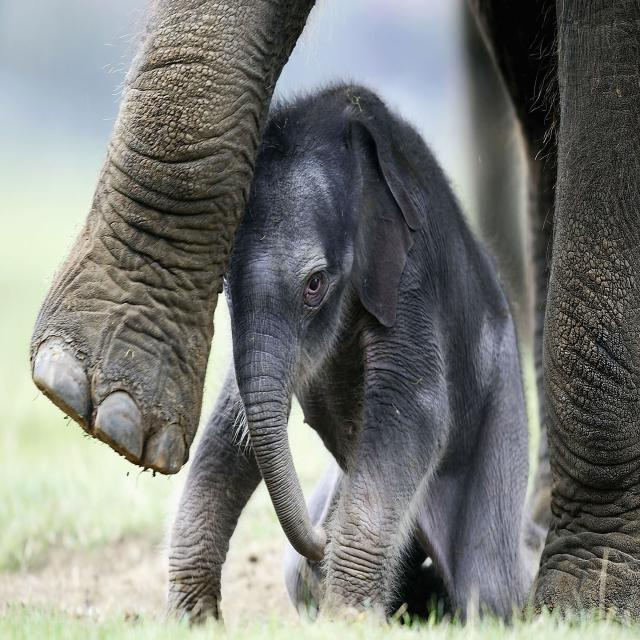Elephant: (173, 72, 547, 640)
